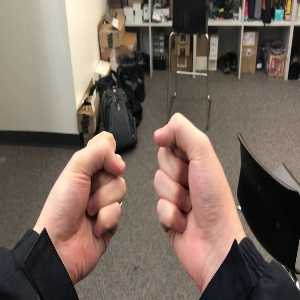hand: (153, 112, 245, 281), (38, 132, 126, 267)
